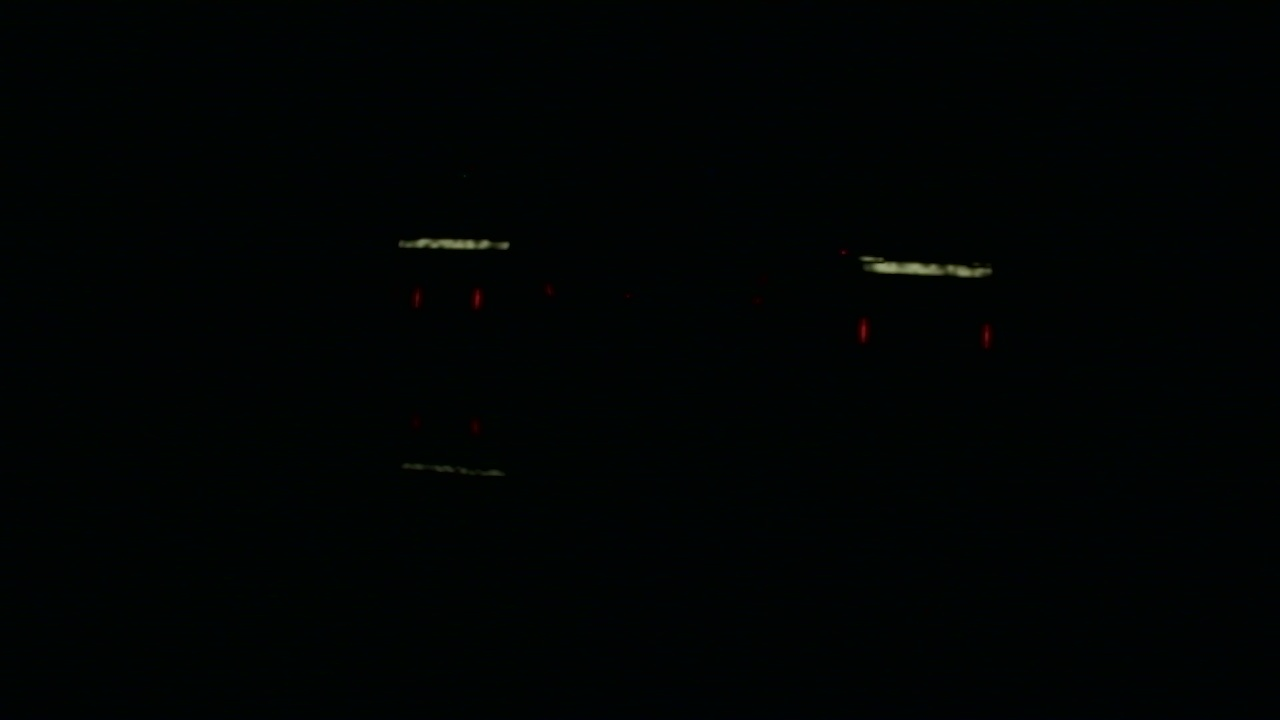lamp: (855, 316, 870, 349), (471, 285, 482, 310), (982, 319, 993, 343), (410, 285, 419, 312)
pair1: (412, 286, 481, 312)
pair2: (860, 318, 991, 348)
